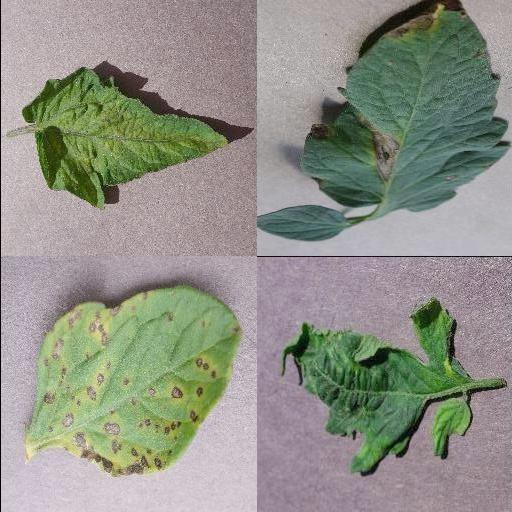Early Blight: (299, 2, 512, 211)
Healthy: (256, 203, 346, 242)
Mosaic Virus: (277, 296, 473, 472)
Septoria: (27, 288, 243, 478)
Spider Mites: (21, 66, 231, 210)
